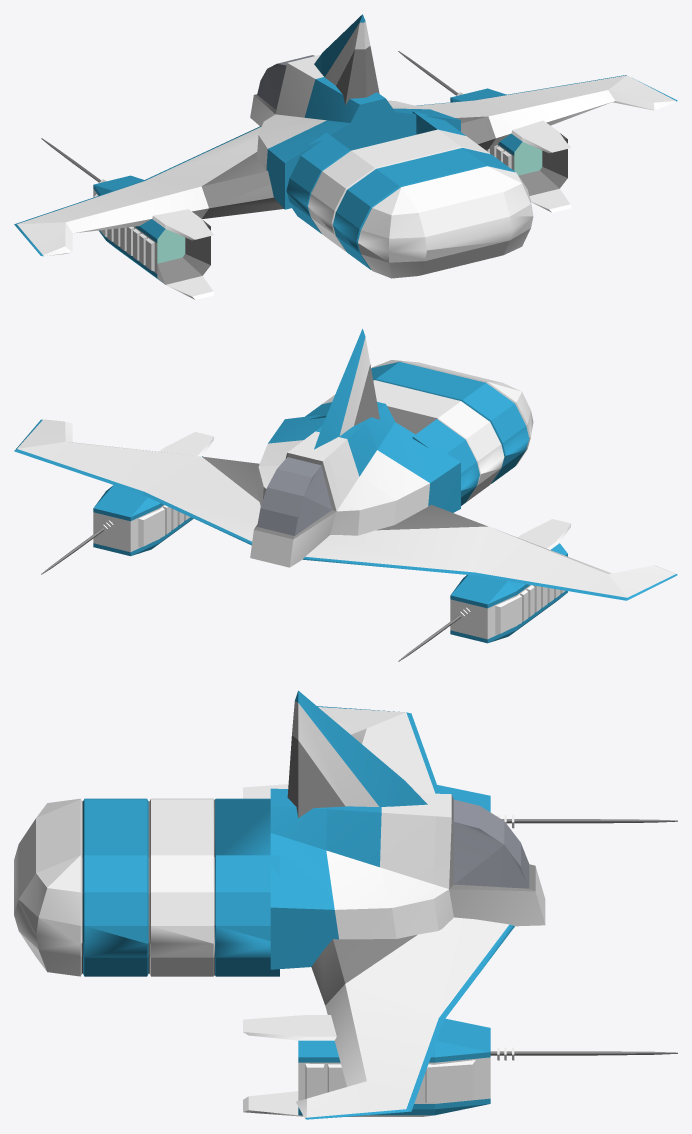
File: spaceship.gltf
3 renders of one model, top to bottom at view 1: azimuth 30°, elevation 25°; view 2: azimuth 150°, elevation 25°; view 3: azimuth 270°, elevation 25°, orthographic. The views are drawn at different scales.
Parts seen in each view (by area): view 1: aircraft; view 2: aircraft; view 3: aircraft.
Boxes of the visible parts, x1,y1,x2,y2 form: aircraft: (14,14,677,299); aircraft: (14,329,677,661); aircraft: (14,690,677,1119).
Size of the model in its own units: 3.57 by 1.2 by 2.42.
